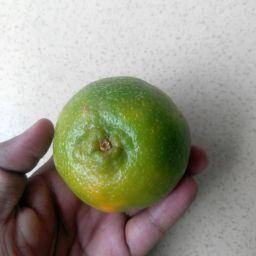Unripe: (53, 76, 193, 212)
